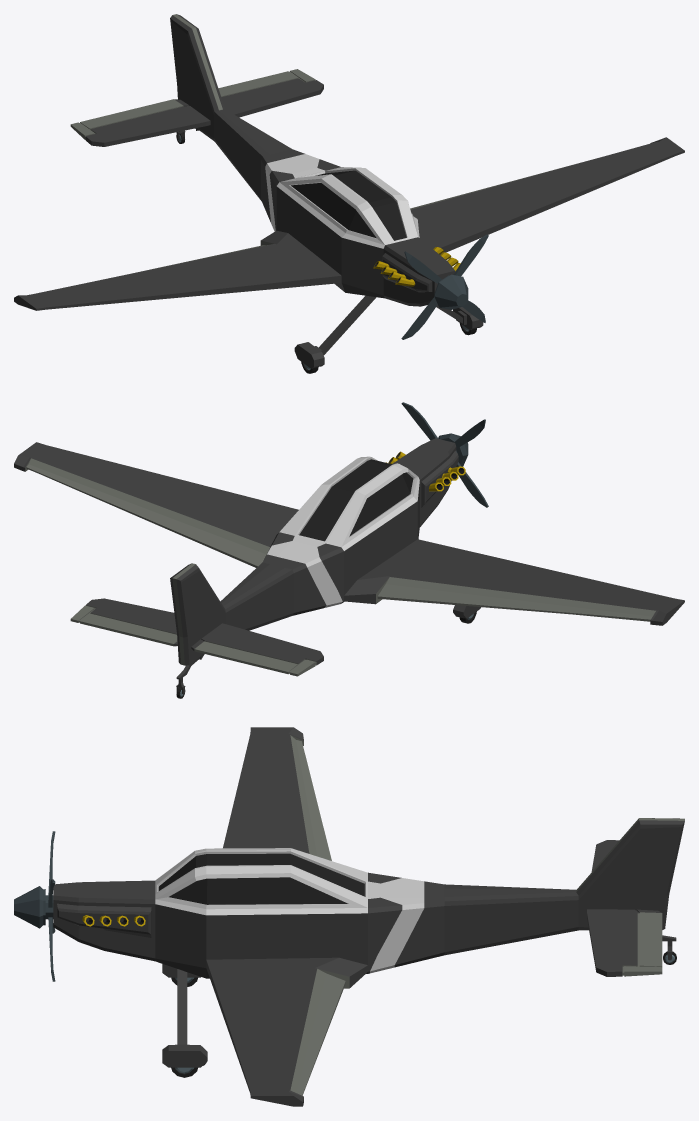
Rendered from EaglePlane.glb.
The picture shows the model from 3 angles, top to bottom: view 1: azimuth 30°, elevation 25°; view 2: azimuth 150°, elevation 25°; view 3: azimuth 270°, elevation 25°; orthographic projection. The views are drawn at different scales.
Visible parts, largest first — view 1: EaglePlane, EaglePlane_FrontPropeller; view 2: EaglePlane, EaglePlane_FrontPropeller; view 3: EaglePlane, EaglePlane_FrontPropeller.
Boxes of the visible parts, x1,y1,x2,y2 form: EaglePlane: [14, 14, 684, 368]; EaglePlane_FrontPropeller: [401, 234, 488, 339]; EaglePlane: [14, 433, 684, 694]; EaglePlane_FrontPropeller: [401, 402, 488, 507]; EaglePlane: [14, 727, 684, 1106]; EaglePlane_FrontPropeller: [48, 831, 55, 981].
Size of the model in its own units: 1.54 by 0.4122 by 1.18.
Materials: 1 (1 with a texture image).
